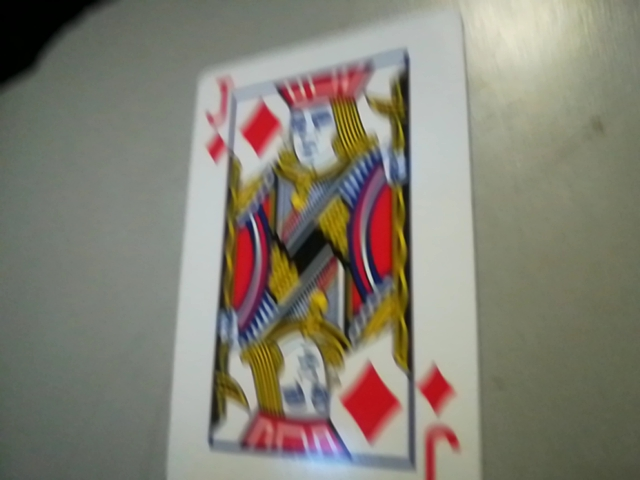fk j: (407, 361, 476, 480)
